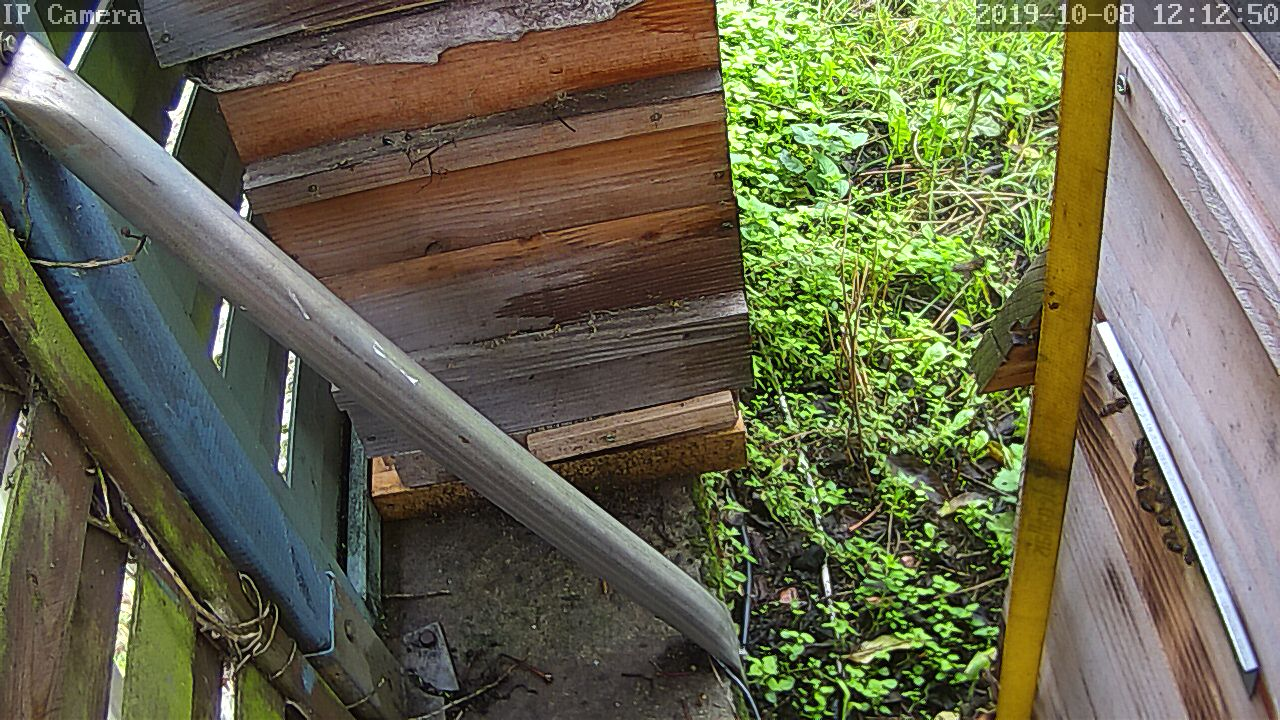bee: (1138, 491, 1182, 538), (1123, 448, 1159, 499), (1150, 524, 1193, 565), (1095, 398, 1131, 429), (1101, 368, 1132, 400)
